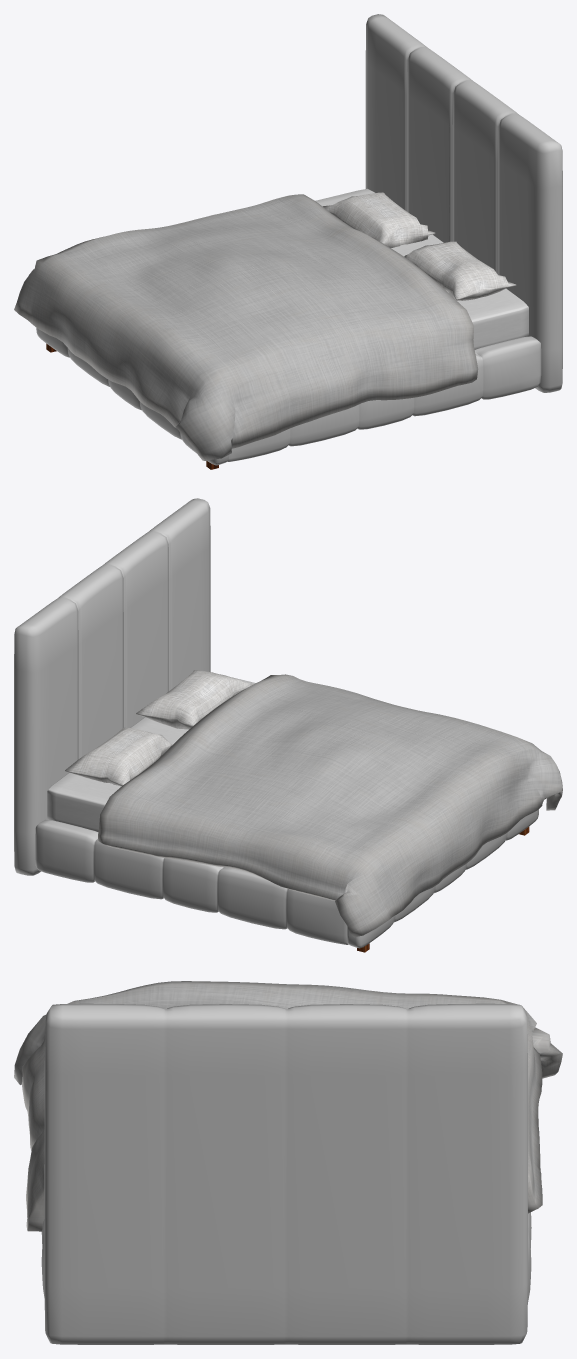
The model's file is Bed_Bed.fbx.
3 renders of one model, top to bottom at view 1: azimuth 30°, elevation 25°; view 2: azimuth 150°, elevation 25°; view 3: azimuth 270°, elevation 25°, orthographic. The views are drawn at different scales.
Parts seen in each view (by area): view 1: Bed_Duvet, Bed_Bed, Bed_Pillows, Bed_Matress; view 2: Bed_Duvet, Bed_Bed, Bed_Pillows, Bed_Matress; view 3: Bed_Bed, Bed_Duvet.
Boxes of the visible parts, x1,y1,x2,y2 form: Bed_Duvet: (14, 194, 478, 461); Bed_Bed: (36, 14, 562, 465); Bed_Pillows: (323, 192, 516, 300); Bed_Matress: (315, 188, 528, 349); Bed_Duvet: (98, 674, 562, 937); Bed_Bed: (14, 498, 538, 948); Bed_Pillows: (65, 670, 252, 786); Bed_Matress: (47, 677, 255, 831); Bed_Bed: (41, 1003, 531, 1344); Bed_Duvet: (14, 981, 562, 1231).
Size of the model in its own units: 242 by 151 by 227.
